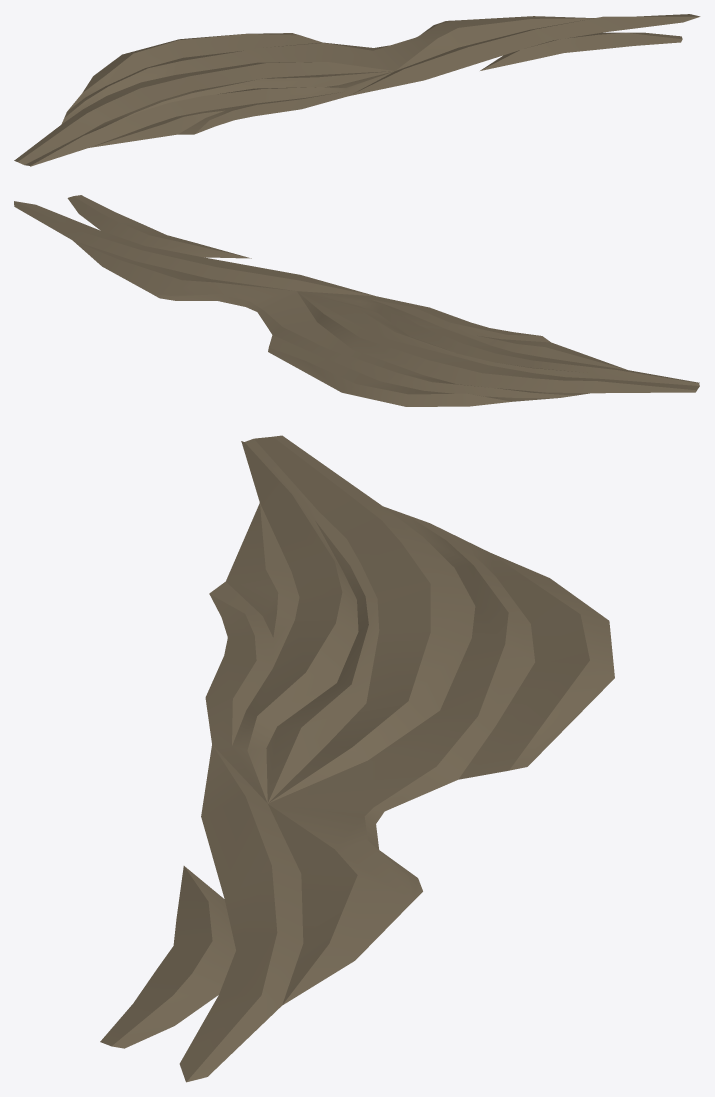
Rendered from dixing7.FBX.
The picture shows the model from 3 angles, top to bottom: view 1: azimuth 30°, elevation 25°; view 2: azimuth 150°, elevation 25°; view 3: azimuth 270°, elevation 25°; orthographic projection. The views are drawn at different scales.
Visible parts, largest first — view 1: Dunes02; view 2: Dunes02; view 3: Dunes02.
Part boxes in pixels (x1=…): Dunes02: x1=14, y1=14, x2=700, y2=166; Dunes02: x1=14, y1=195, x2=699, y2=406; Dunes02: x1=100, y1=435, x2=614, y2=1082.
Size of the model in its own units: 20.44 by 0.1815 by 6.88.
